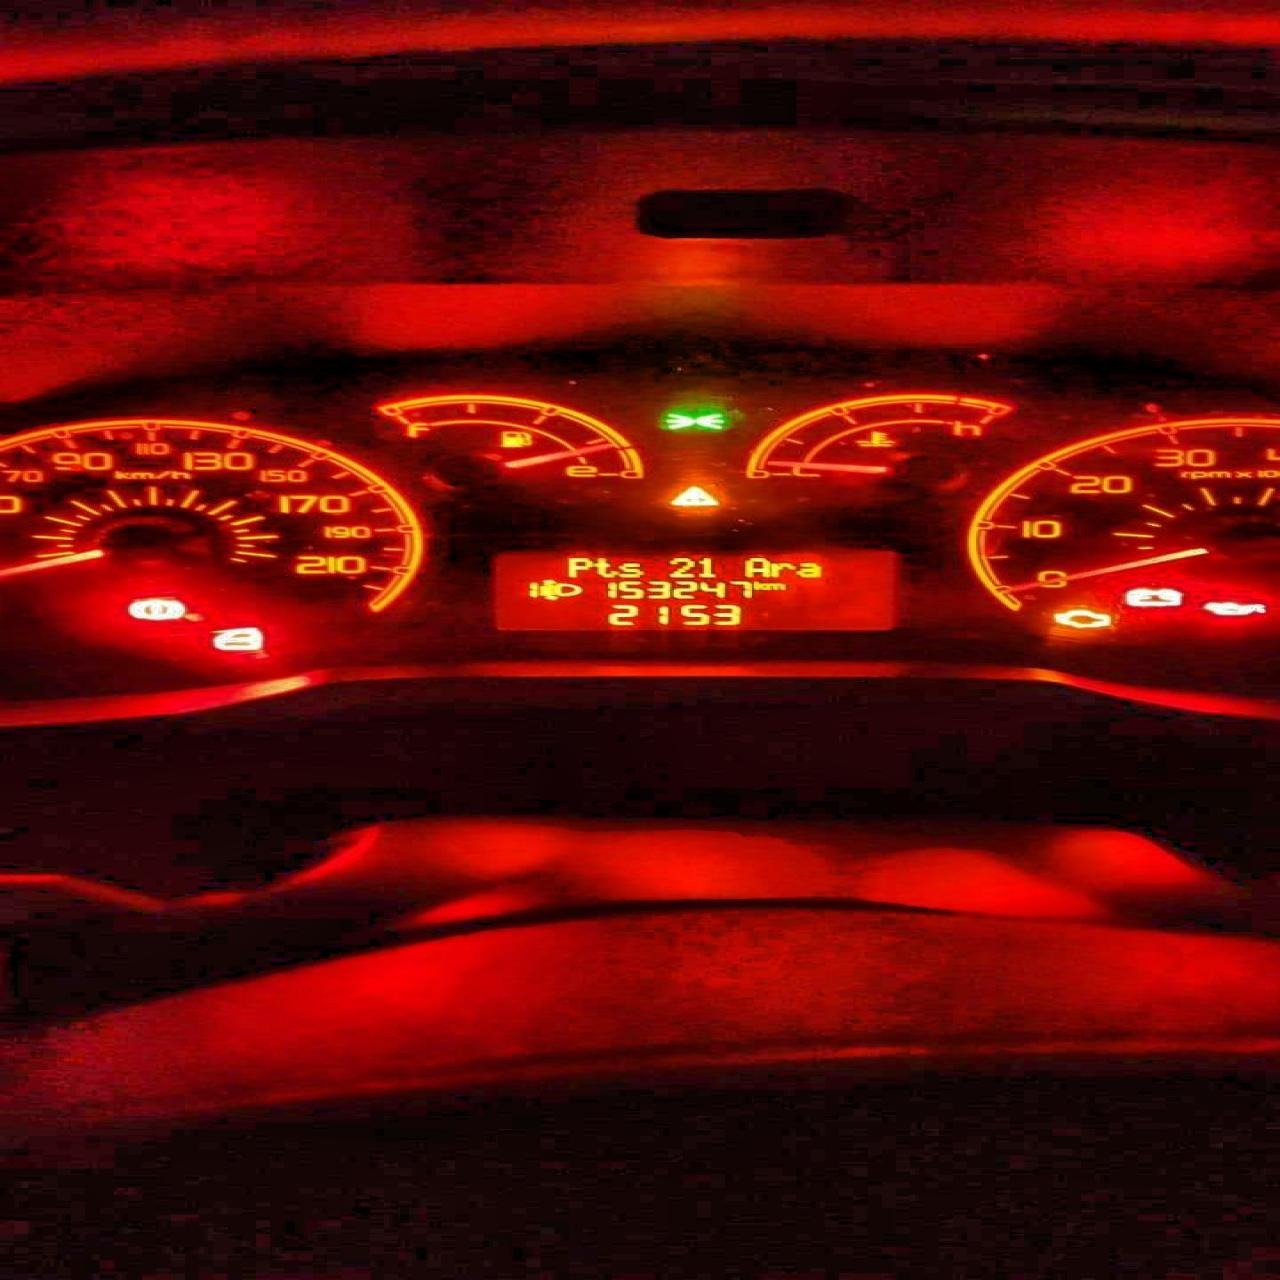1: (696, 553, 716, 579), (652, 602, 672, 627), (520, 579, 539, 600), (605, 580, 615, 600)
2: (602, 602, 636, 627), (667, 556, 695, 577), (672, 579, 695, 599)
3: (713, 602, 740, 625), (647, 578, 670, 600)
4: (699, 579, 726, 598)
5: (679, 602, 708, 626), (617, 578, 642, 599)
7: (730, 579, 753, 600)
X: (741, 557, 770, 578), (565, 556, 591, 579), (591, 556, 617, 579), (798, 559, 823, 579), (619, 559, 645, 577), (770, 559, 791, 577), (767, 581, 785, 590), (753, 579, 765, 590)
odometer: (489, 546, 899, 631)
